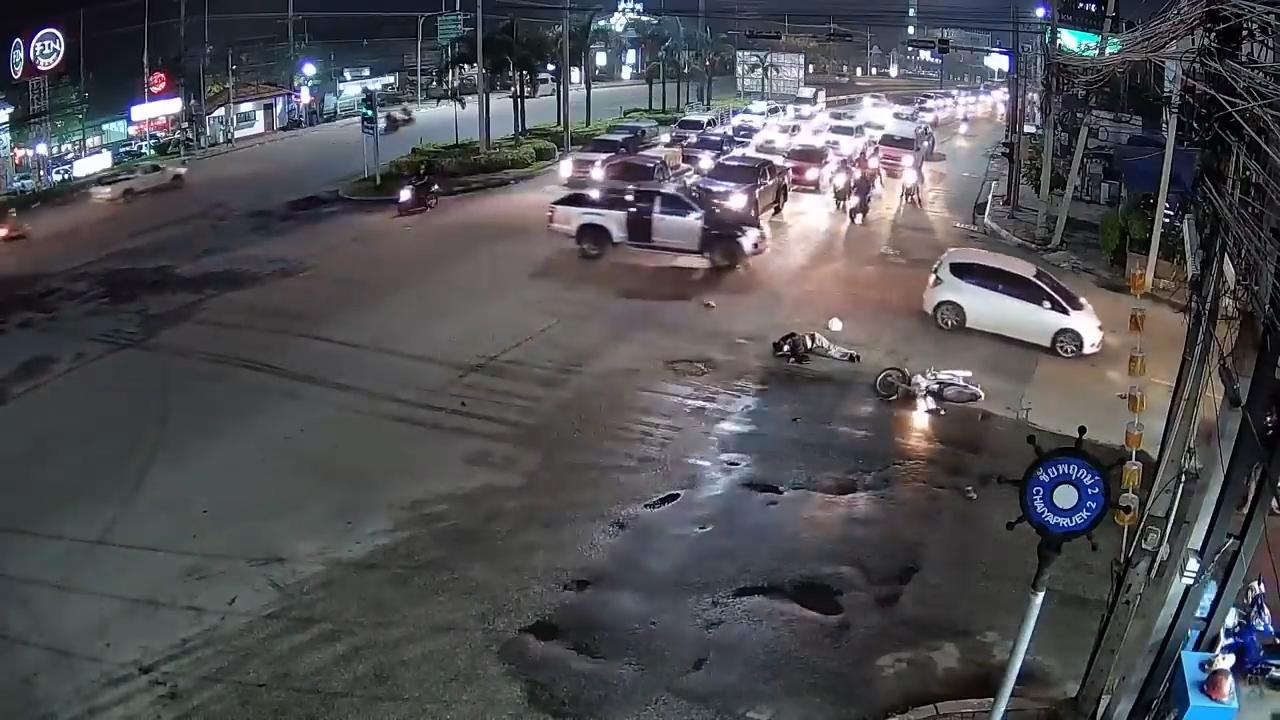accident: (768, 328, 863, 373)
